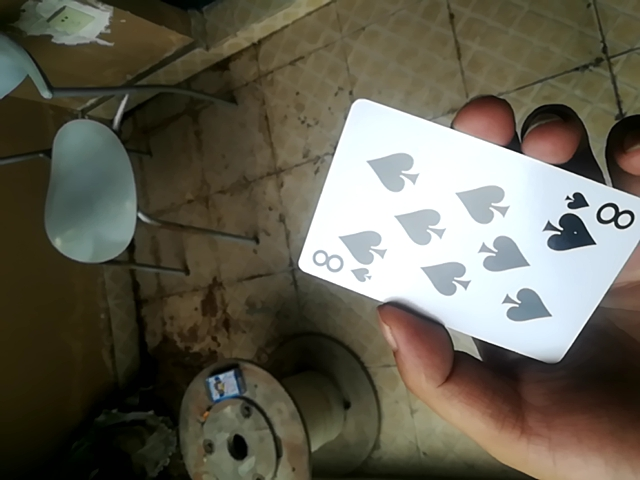ht 8: (294, 98, 639, 367)
